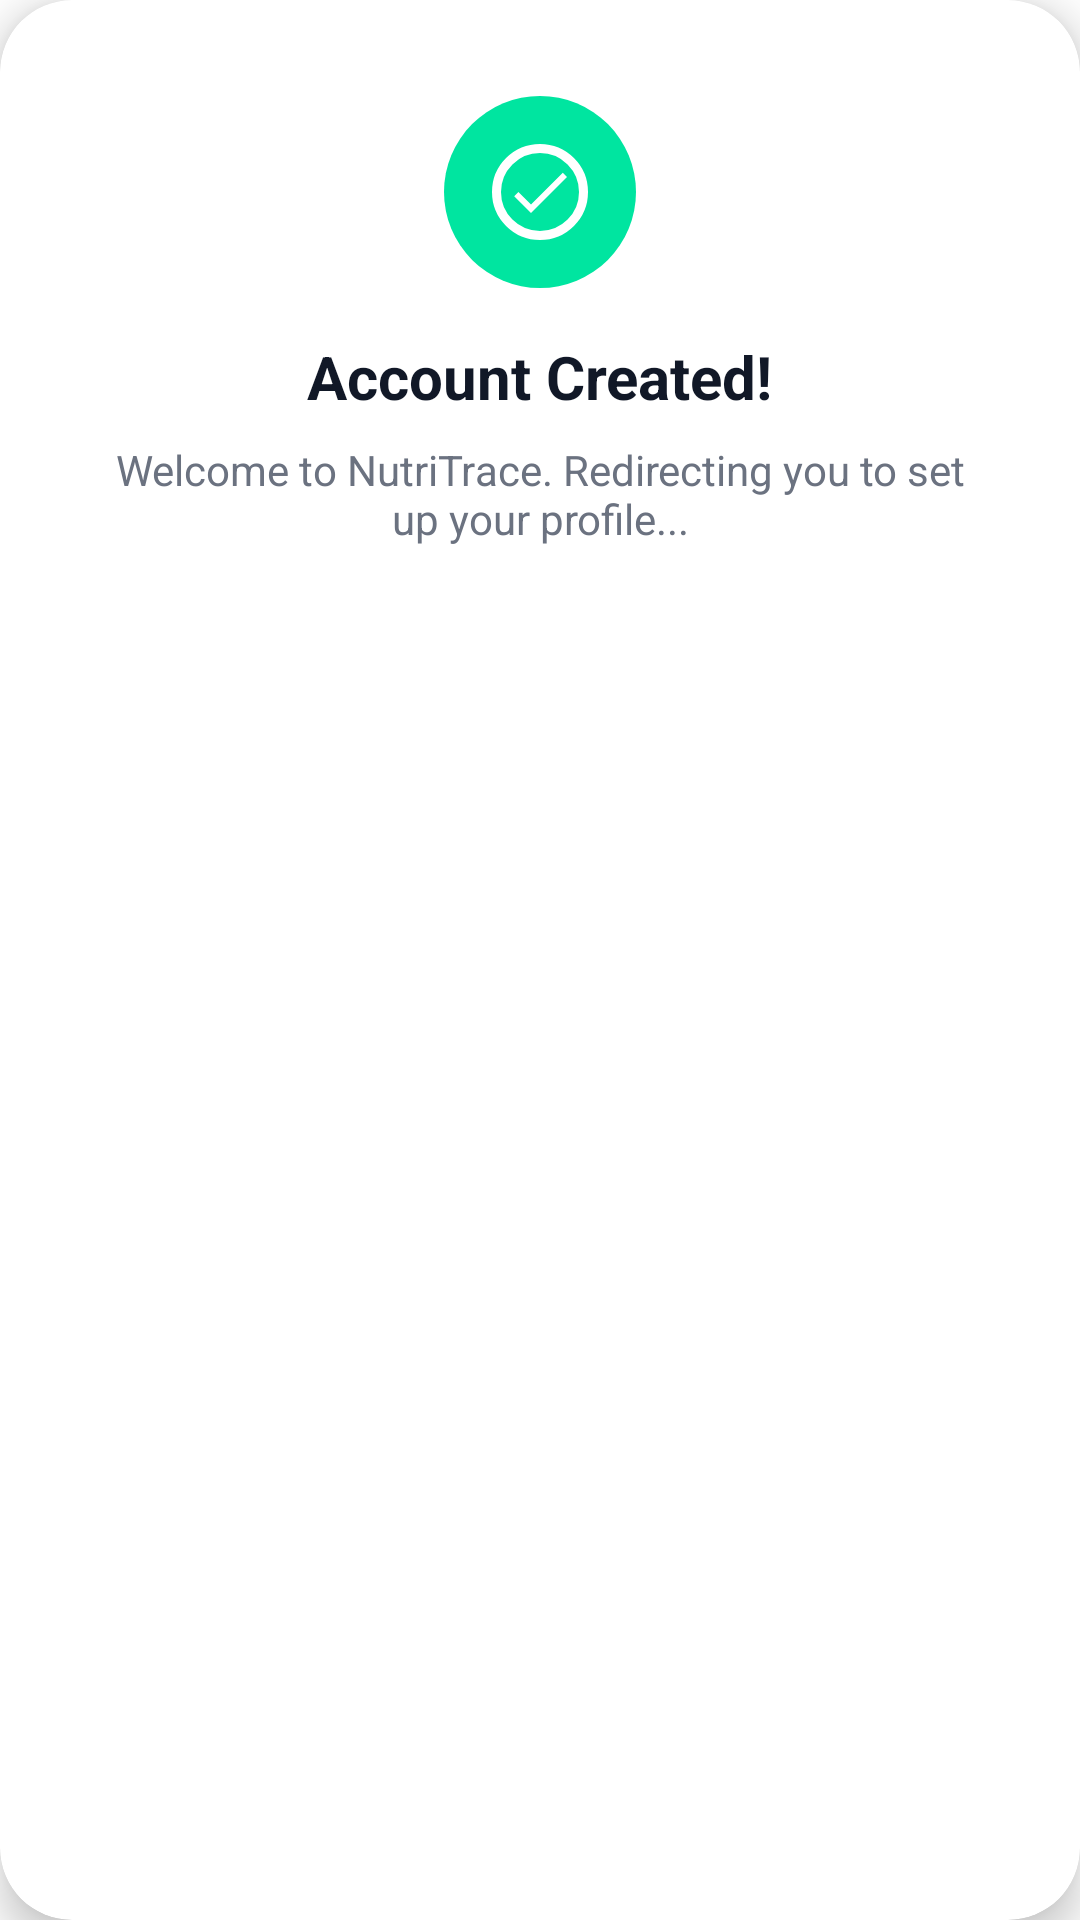

Icons on this 1080 × 1920 Android screen, each with the point to tap as (x,y):
success check: (540,192)
